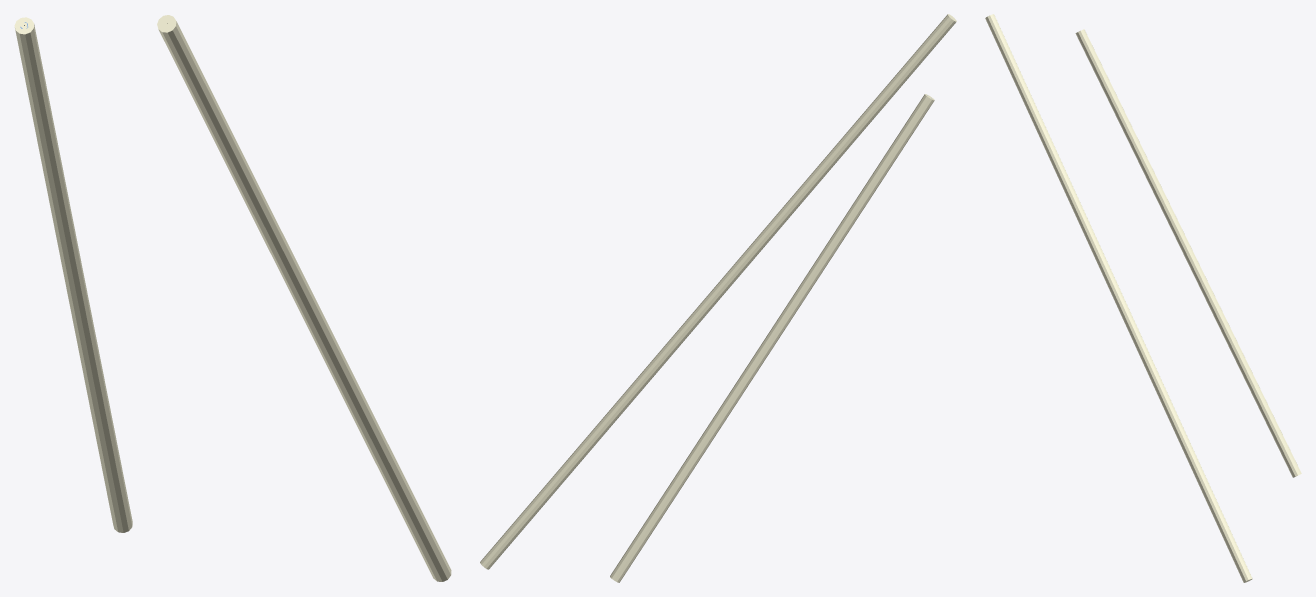
Rendered from tile_10.glb.
The picture shows the model from 3 angles, left to right: view 1: azimuth 30°, elevation 25°; view 2: azimuth 150°, elevation 25°; view 3: azimuth 270°, elevation 25°; orthographic projection. The views are drawn at different scales.
Size of the model in its own units: 8.65 by 12.11 by 7.89.
